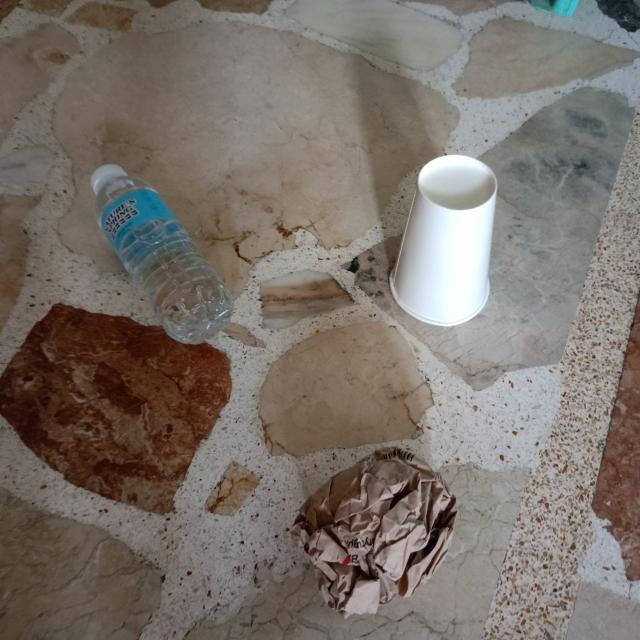recyclable waste: (286, 443, 470, 626), (84, 153, 243, 351), (378, 148, 511, 338)
